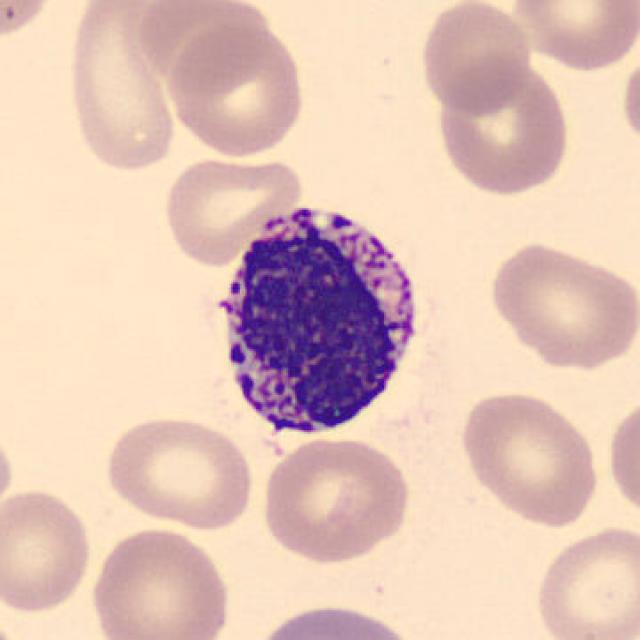Basophil: (199, 192, 436, 455)
RBC: (163, 16, 310, 160), (455, 386, 603, 529), (62, 2, 182, 176), (256, 434, 414, 566), (430, 56, 574, 200), (484, 238, 636, 372), (100, 410, 258, 530), (87, 523, 234, 640), (158, 152, 304, 268), (416, 0, 535, 115), (530, 522, 638, 640), (0, 485, 96, 617), (508, 0, 638, 72), (247, 599, 423, 640), (604, 392, 640, 526), (0, 0, 62, 44), (618, 47, 640, 155), (0, 418, 18, 525), (0, 612, 23, 640)
